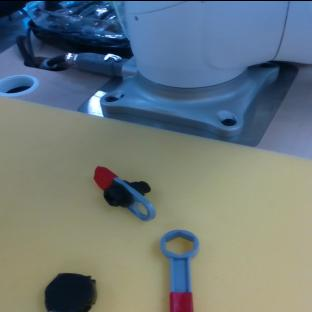part_1_good: (85, 163, 165, 223)
part_3_bad: (45, 273, 97, 312)
part_3_good: (161, 229, 200, 312)
